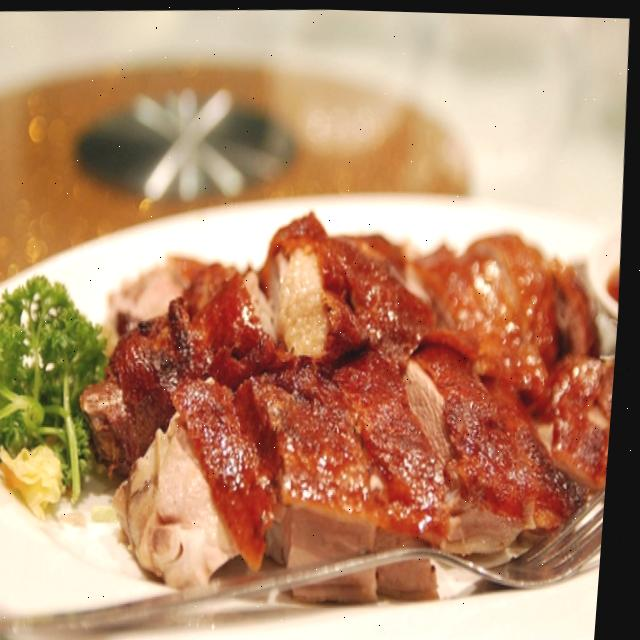烧串烤肉: (34, 147, 632, 640)
